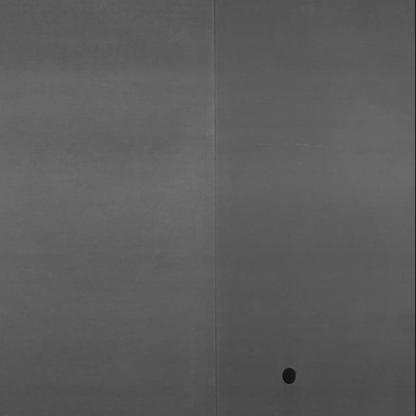punching_hole: (276, 365, 302, 386)
welding_line: (205, 1, 229, 414)
